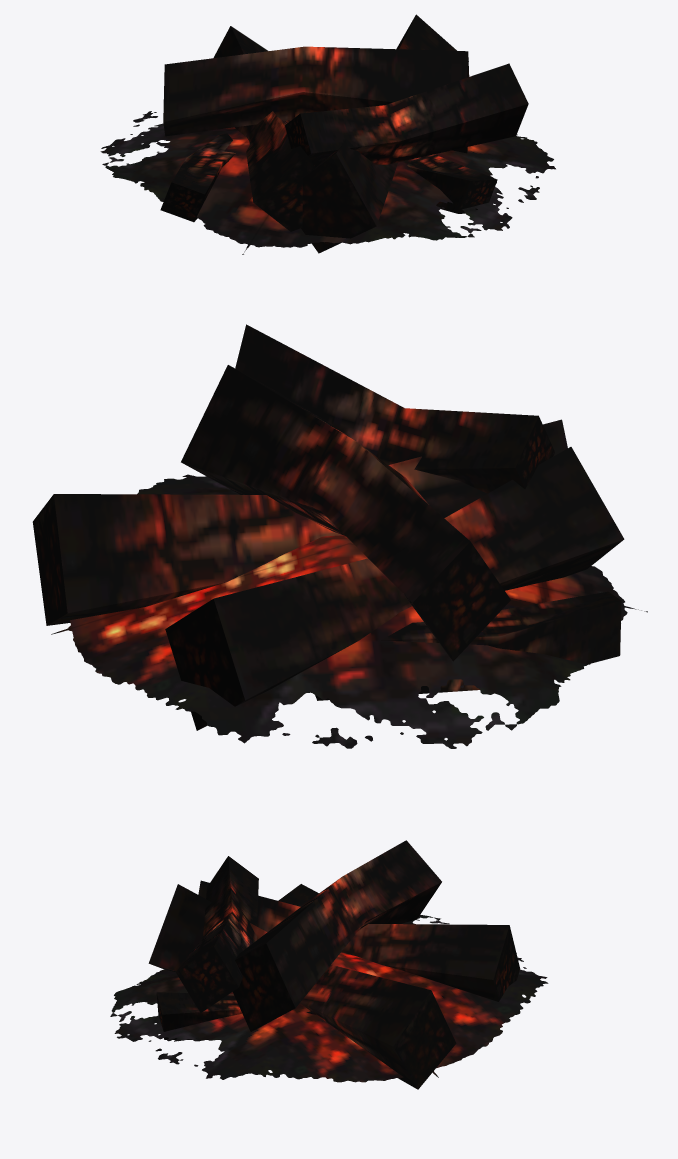
File: cave_bonfire_03.fbx
The picture shows the model from 3 angles, top to bottom: view 1: azimuth 30°, elevation 25°; view 2: azimuth 150°, elevation 25°; view 3: azimuth 270°, elevation 25°; orthographic projection. The views are drawn at different scales.
Visible parts, largest first — view 1: cave_bonfire_mat; view 2: cave_bonfire_mat; view 3: cave_bonfire_mat.
Boxes of the visible parts, bbox=[...] form: cave_bonfire_mat: bbox=[100, 14, 555, 254]; cave_bonfire_mat: bbox=[32, 324, 647, 748]; cave_bonfire_mat: bbox=[110, 840, 548, 1089].
Bounding box in the file's own units: 4.71 × 1.14 × 4.98.
